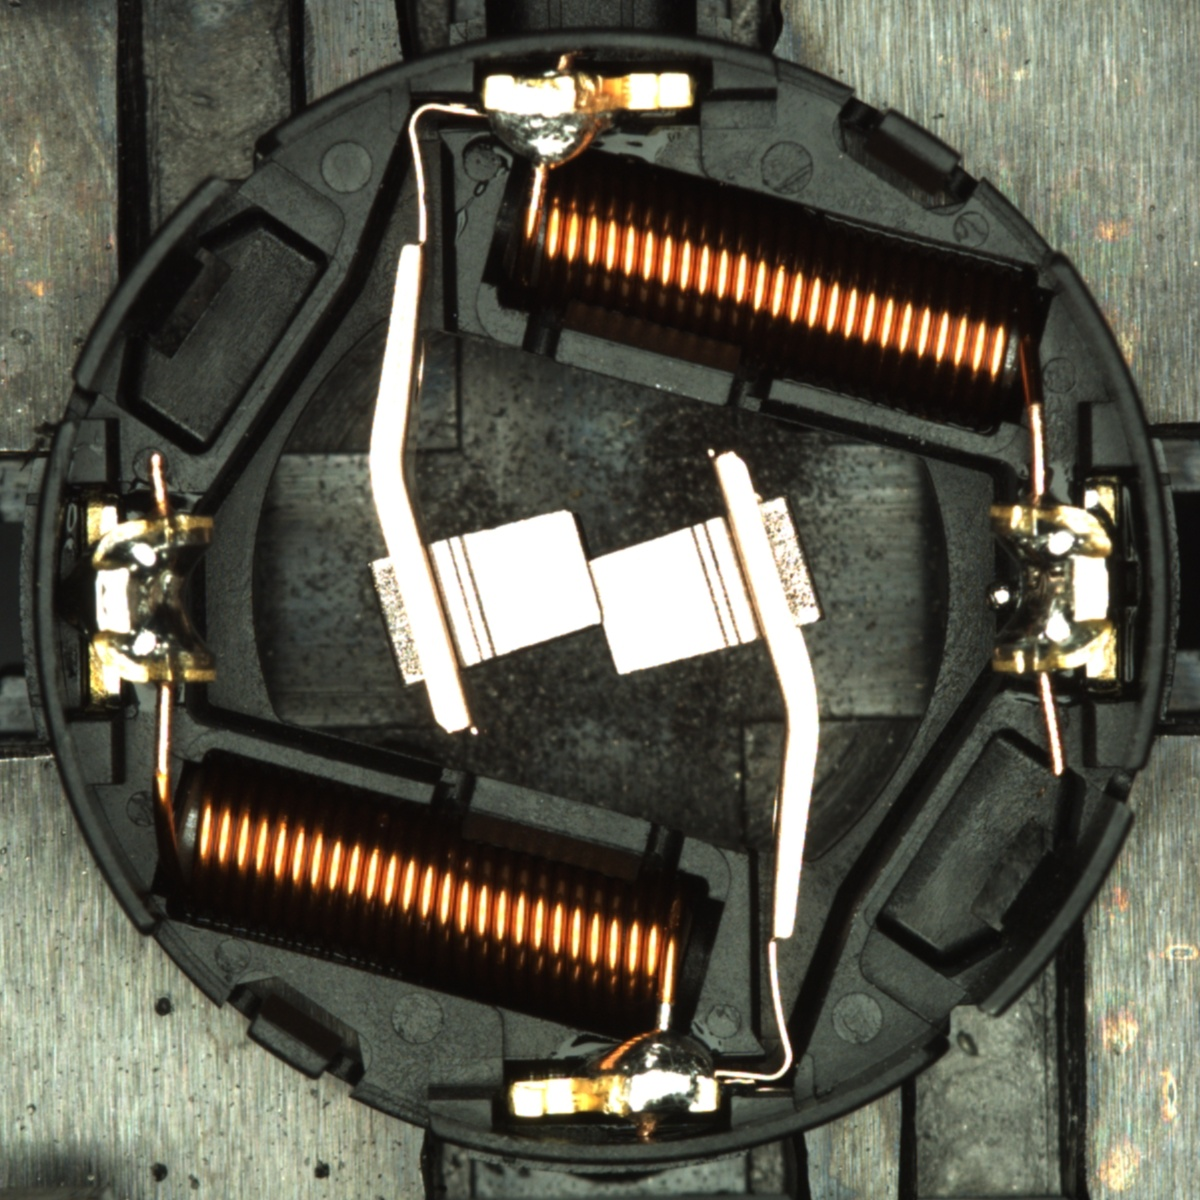1: (254, 29, 483, 254), (712, 927, 941, 1151)
2: (712, 29, 941, 254), (254, 927, 483, 1151)
3: (24, 254, 254, 478), (941, 703, 1171, 927)
4: (254, 254, 483, 478), (712, 703, 941, 927)
5: (483, 142, 712, 366), (483, 815, 712, 1039)
6: (712, 254, 941, 478), (254, 703, 483, 927)
7: (941, 254, 1171, 478), (24, 703, 254, 927)
cacbon: (397, 498, 798, 683)
chau_dien: (80, 498, 221, 699), (984, 486, 1124, 684)
hat_chi: (984, 582, 1015, 612)
tay_choi: (482, 69, 698, 174), (507, 1026, 722, 1121)
thanh_de: (954, 784, 1142, 1033), (59, 164, 244, 405)
